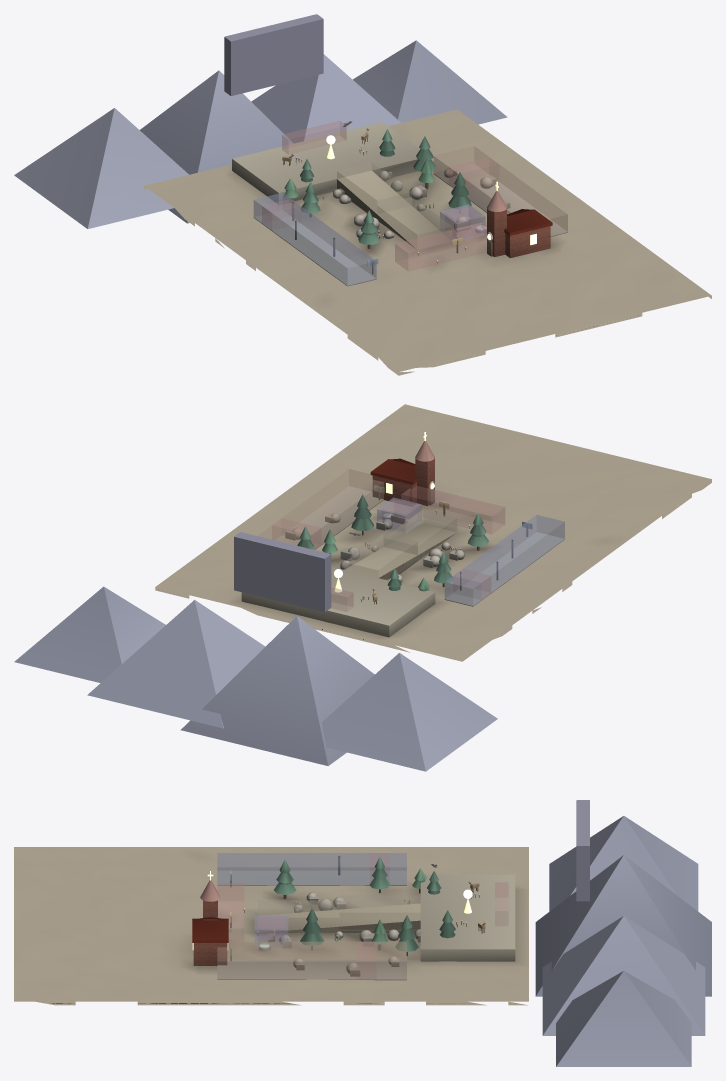
File: hill_difficulty.glb
3 renders of one model, top to bottom at view 1: azimuth 30°, elevation 25°; view 2: azimuth 150°, elevation 25°; view 3: azimuth 270°, elevation 25°, orthographic. The views are drawn at different scales.
Visible parts, largest first — view 1: ENV_Hill_Base, VIS_PROP_Ridge_Peaks (×4), ENV_Hill_Summit, PROP_DistantPalaceSilhouette, COL_FalsePath_Danger, COL_FalsePath_Destruction, ENV_Hill_DifficultyPath, TRIGGER_PathChoiceFork, ENV_Hill_DangerPath, VIS_PROP_Chapel (×3), COL_SteepSlopeZone_01, COL_SteepSlopeZone_02 (+5 smaller); view 2: ENV_Hill_Base, VIS_PROP_Ridge_Peaks (×4), PROP_DistantPalaceSilhouette, ENV_Hill_Summit, COL_FalsePath_Danger, COL_FalsePath_Destruction, ENV_Hill_DangerPath, ENV_Hill_DifficultyPath, VIS_PROP_Chapel (×3), TRIGGER_PathChoiceFork, ENV_Hill_DestructionPath, COL_SteepSlopeZone_02 (+5 smaller); view 3: ENV_Hill_Base, VIS_PROP_Ridge_Peaks (×4), ENV_Hill_Summit, COL_FalsePath_Destruction, COL_FalsePath_Danger, ENV_Hill_DestructionPath, ENV_Hill_DifficultyPath, ENV_Hill_DangerPath, COL_SteepSlopeZone_02, COL_SteepSlopeZone_01, VIS_PROP_Chapel (×2), PROP_DistantPalaceSilhouette (+5 smaller).
Boxes of the visible parts, <box> form: ENV_Hill_Base: <box>144,109,711,375</box>; VIS_PROP_Ridge_Peaks (×4): <box>14,40,507,228</box>; ENV_Hill_Summit: <box>232,122,419,204</box>; PROP_DistantPalaceSilhouette: <box>224,14,323,95</box>; COL_FalsePath_Danger: <box>253,192,376,285</box>; COL_FalsePath_Destruction: <box>433,146,567,236</box>; ENV_Hill_DifficultyPath: <box>337,170,451,249</box>; TRIGGER_PathChoiceFork: <box>395,221,486,271</box>; ENV_Hill_DangerPath: <box>254,210,376,286</box>; VIS_PROP_Chapel (×3): <box>487,208,552,257</box>; COL_SteepSlopeZone_01: <box>377,197,451,249</box>; COL_SteepSlopeZone_02: <box>337,163,411,213</box>; ENV_Hill_Base: <box>155,404,711,661</box>; VIS_PROP_Ridge_Peaks (×4): <box>14,586,497,771</box>; PROP_DistantPalaceSilhouette: <box>234,532,331,612</box>; ENV_Hill_Summit: <box>241,566,435,637</box>; COL_FalsePath_Danger: <box>444,515,564,605</box>; COL_FalsePath_Destruction: <box>258,469,383,549</box>; ENV_Hill_DangerPath: <box>444,532,564,606</box>; ENV_Hill_DifficultyPath: <box>344,524,456,579</box>; VIS_PROP_Chapel (×3): <box>370,456,434,506</box>; TRIGGER_PathChoiceFork: <box>401,486,504,534</box>; ENV_Hill_DestructionPath: <box>275,486,383,549</box>; COL_SteepSlopeZone_02: <box>344,533,417,577</box>; ENV_Hill_Base: <box>14,847,528,1005</box>; VIS_PROP_Ridge_Peaks (×4): <box>535,816,711,1066</box>; ENV_Hill_Summit: <box>420,874,515,961</box>; COL_FalsePath_Destruction: <box>217,941,406,979</box>; COL_FalsePath_Danger: <box>217,853,406,885</box>; ENV_Hill_DestructionPath: <box>217,959,406,980</box>; ENV_Hill_DifficultyPath: <box>258,903,420,932</box>; ENV_Hill_DangerPath: <box>217,870,406,885</box>; COL_SteepSlopeZone_02: <box>339,895,420,930</box>; COL_SteepSlopeZone_01: <box>258,900,338,932</box>; VIS_PROP_Chapel (×2): <box>192,918,228,965</box>; PROP_DistantPalaceSilhouette: <box>576,800,589,901</box>.
Size of the model in its own units: 73 by 25 by 103.
Materials: 63 (2 with a texture image).
